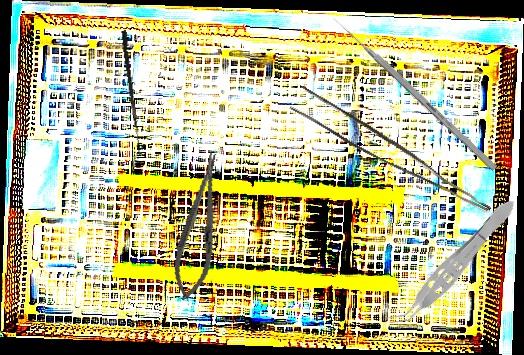Hook Surgical: (119, 30, 146, 155)
Needle Holder: (166, 150, 233, 304)
Pusher: (330, 14, 499, 172)
Tissue Forceps: (286, 85, 503, 214), (382, 191, 524, 339)
